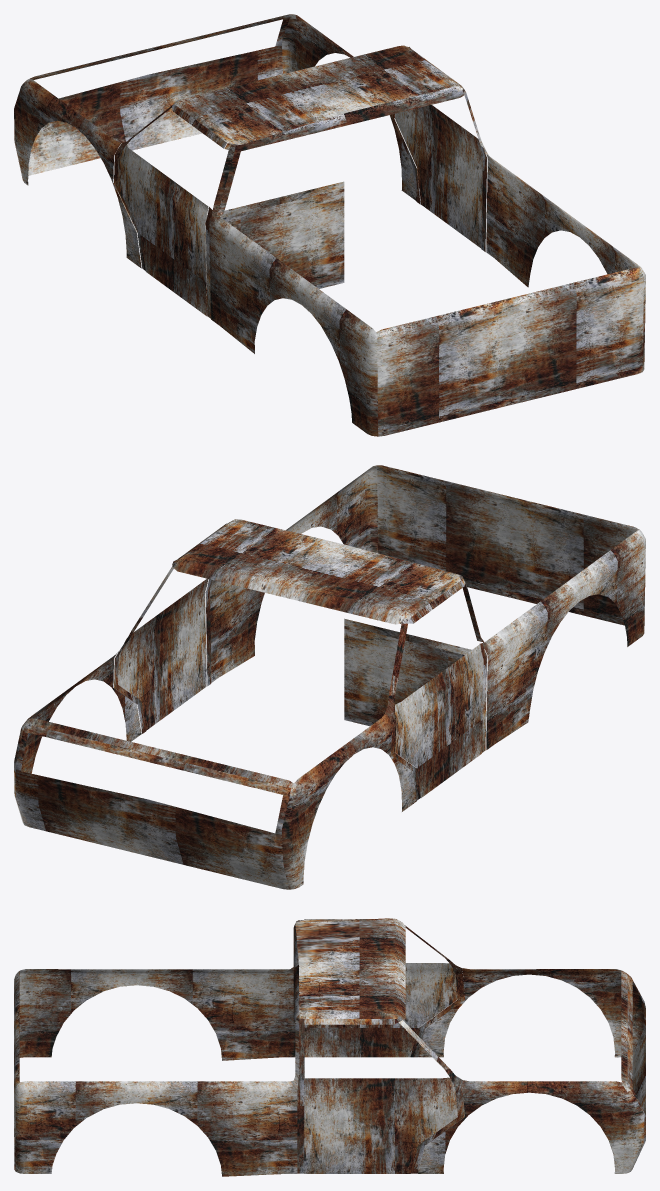
Rendered from upgrade1 (1).fbx.
3 renders of one model, top to bottom at view 1: azimuth 30°, elevation 25°; view 2: azimuth 150°, elevation 25°; view 3: azimuth 270°, elevation 25°, orthographic. The views are drawn at different scales.
Visible parts, largest first — view 1: Cube.001; view 2: Cube.001; view 3: Cube.001.
Boxes of the visible parts, x1=… form: Cube.001: x1=14, y1=14, x2=645, y2=436; Cube.001: x1=14, y1=465, x2=645, y2=889; Cube.001: x1=14, y1=918, x2=645, y2=1176.
Size of the model in its own units: 204 by 124 by 462.
1 material, 1 textured.
